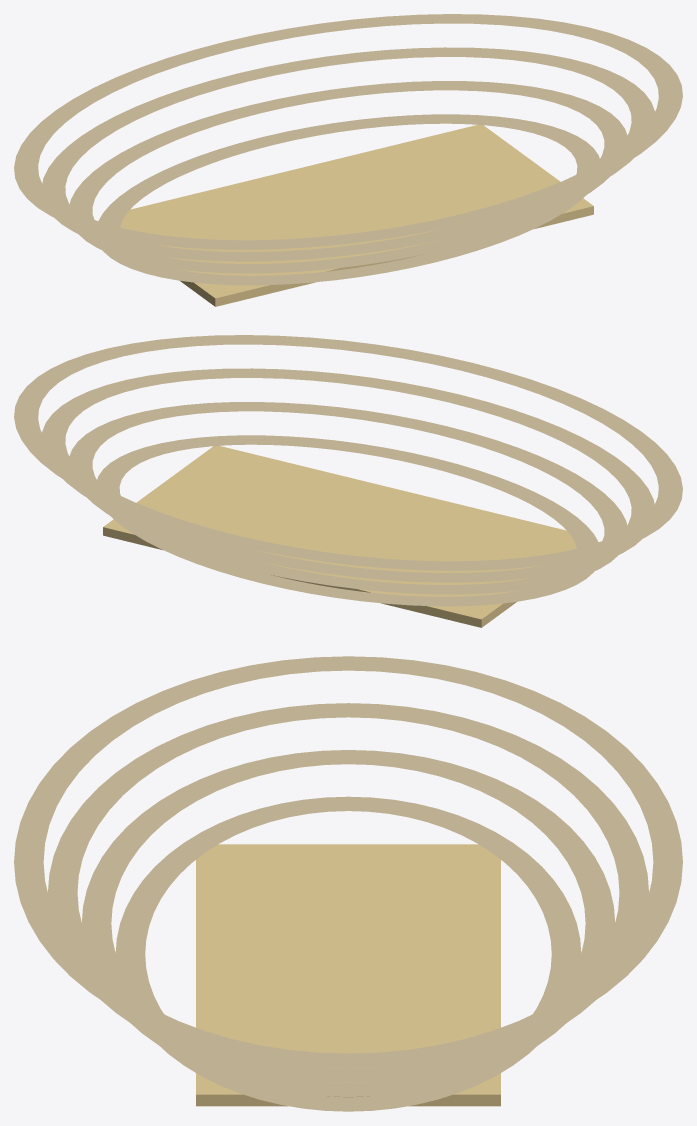
The model's file is building_arena.fbx.
The picture shows the model from 3 angles, top to bottom: view 1: azimuth 30°, elevation 25°; view 2: azimuth 150°, elevation 25°; view 3: azimuth 270°, elevation 25°; orthographic projection. The views are drawn at different scales.
Parts seen in each view (by area): view 1: building_arena; view 2: building_arena; view 3: building_arena.
Boxes of the visible parts, x1,y1,x2,y2 form: building_arena: (14,14,682,306); building_arena: (14,335,682,627); building_arena: (14,656,682,1111).
Bounding box in the file's own units: 115 × 15.5 × 79.
